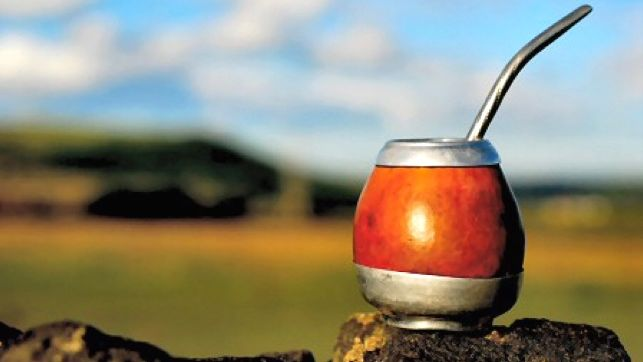guampa: (250, 2, 626, 335)
